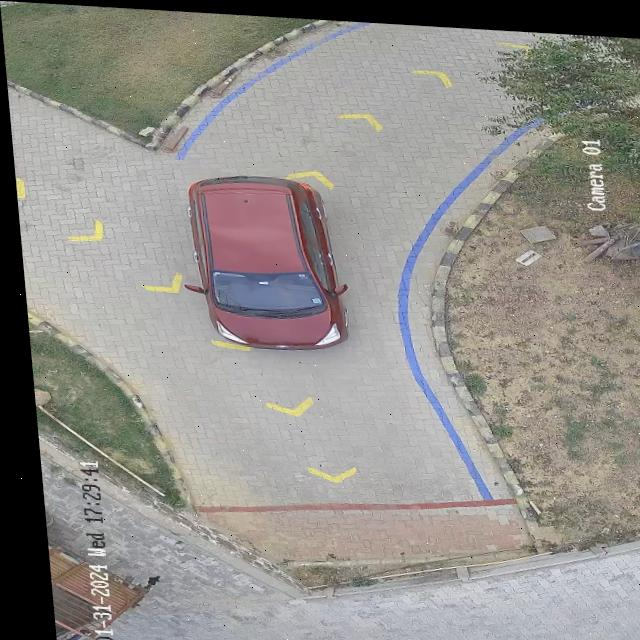car: (179, 172, 342, 346)
